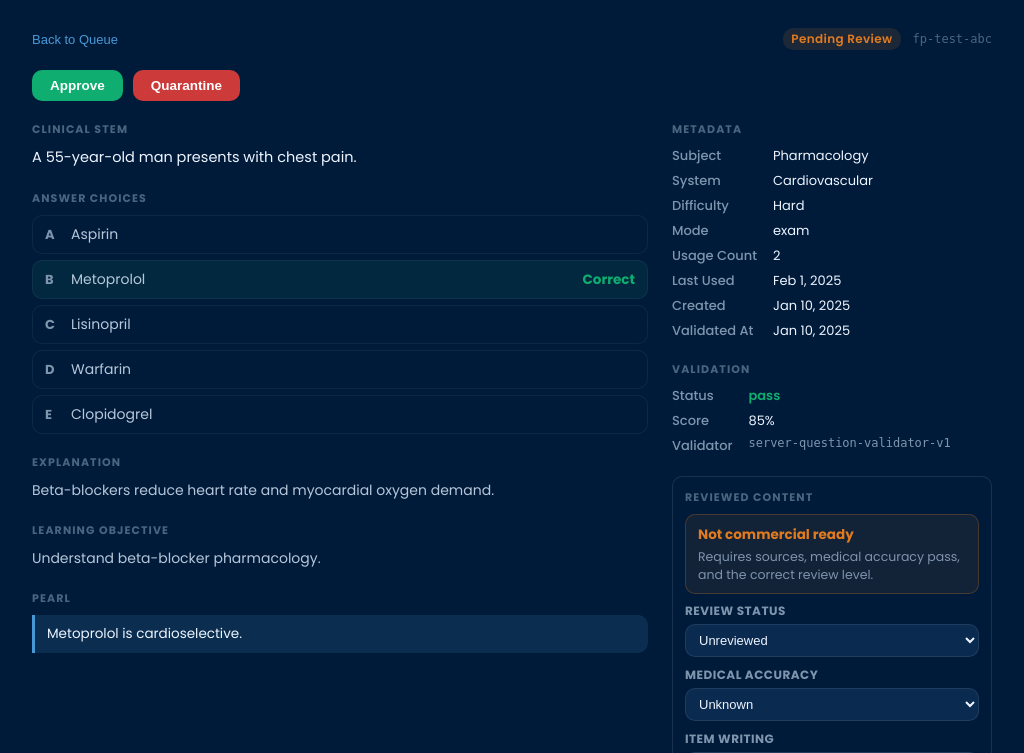
Test case: AdminReviewDetail › opens confirm modal on Approve click
The image size is (1024, 753).
What coordinates should you click on to do the following:
click the button "Approve"
I would click on:
 (77, 86)
Its box is 32,70 -> 123,101.
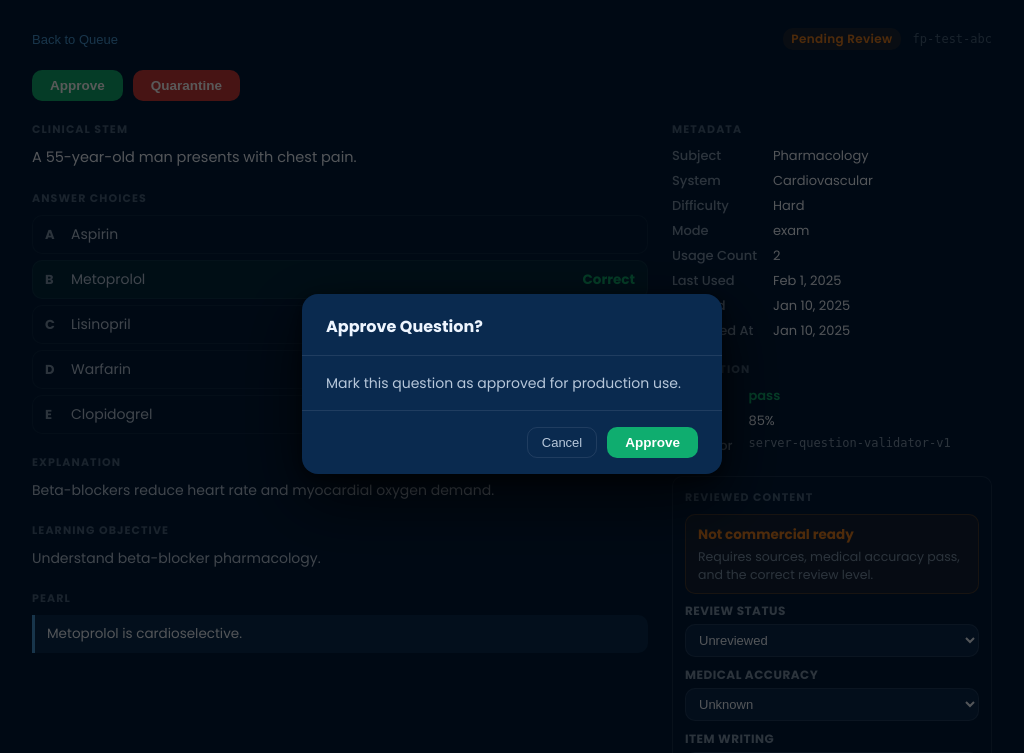
Expected: the heading "Approve Question?" is shown, 326,315 -> 483,338
